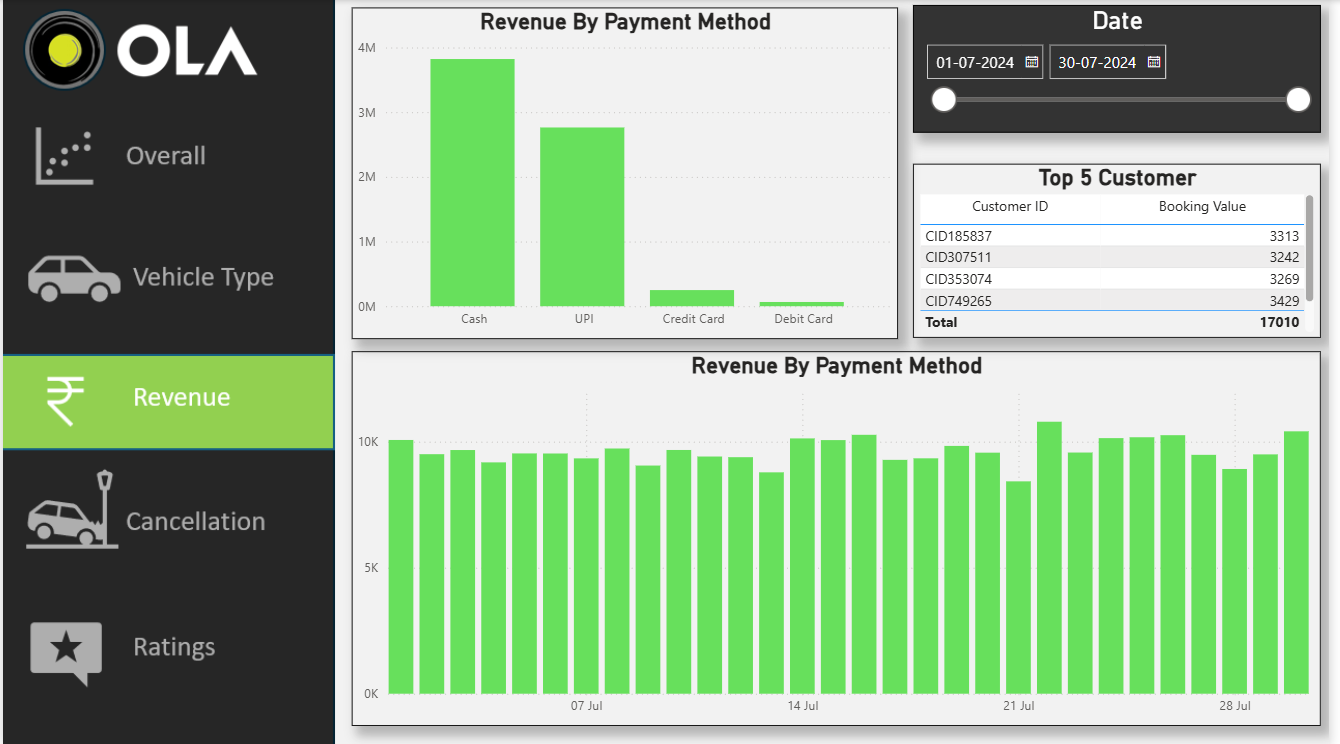

This screenshot's page, from the dashboard's own definition file:
{"tool":"powerbi","page":{"name":"Revenue","canvas":[1280,720],"ordinal":2},"visuals":[{"type":"actionButton","box":[0,214.1,323.8,96.1],"z":0},{"type":"actionButton","box":[0,447.3,323.8,96.1],"z":1000},{"type":"actionButton","box":[0,580.4,323.8,96.1],"z":2000},{"type":"actionButton","box":[0,104.3,323.8,96.1],"z":3000},{"type":"columnChart","title":"Revenue By Payment Method","fields":{"Y":["Sum(July.Booking_Value)"],"Category":["July.Payment_Method"]},"box":[336.6,7.2,527.2,319.7],"z":4000},{"type":"columnChart","title":"Revenue By Payment Method","fields":{"Y":["Sum(July.Ride_Distance)"],"Category":["July.Date"]},"box":[336.6,339,935,361.9],"z":5000},{"type":"slicer","title":"Date","fields":{"Values":["July.Date"]},"box":[878.3,4.8,393.3,123.1],"z":6000},{"type":"tableEx","title":"Top 5 Customer","fields":{"Values":["July.Customer_ID","Sum(July.Booking_Value)"]},"box":[878.5,158.4,393.3,168.3],"z":7000}]}

Visuals, with their boxes in screenshot pixels (x1, y1, x2, y2), scaled from the page's 1280x720 canvas onto the 1340x744 screenshot:
actionButton: 0,221,339,321
actionButton: 0,462,339,562
actionButton: 0,600,339,699
actionButton: 0,108,339,207
"Revenue By Payment Method" columnChart: 352,7,904,338
"Revenue By Payment Method" columnChart: 352,350,1331,724
"Date" slicer: 919,5,1331,132
"Top 5 Customer" tableEx: 920,164,1331,338
